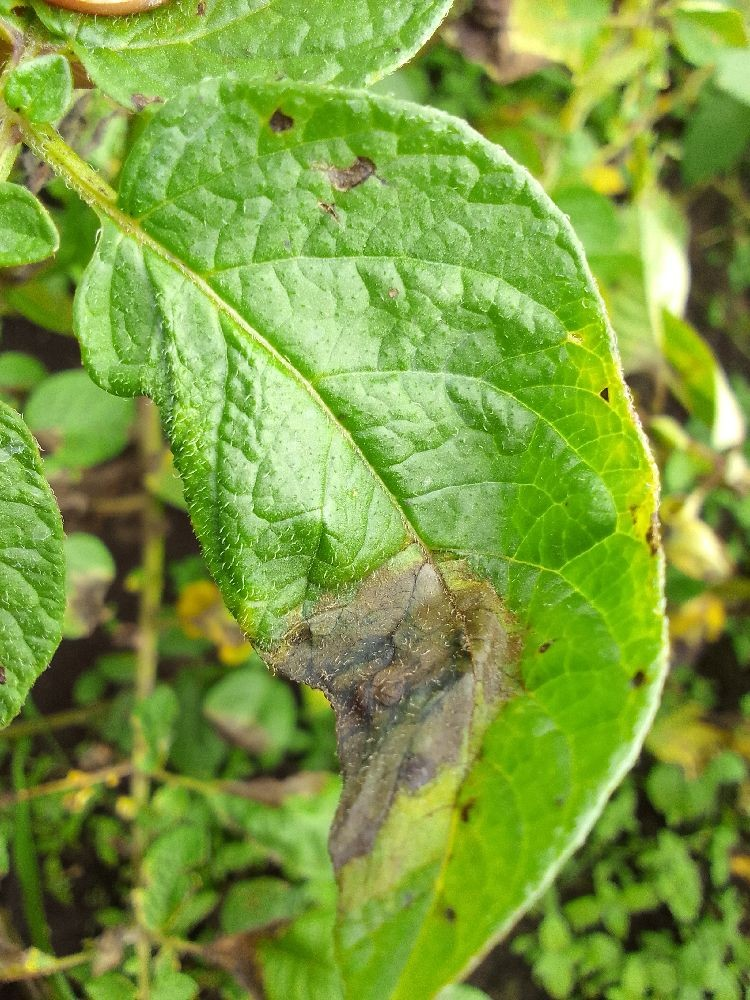late_blight: (502, 454, 750, 994), (628, 116, 750, 418), (159, 839, 310, 1000)
